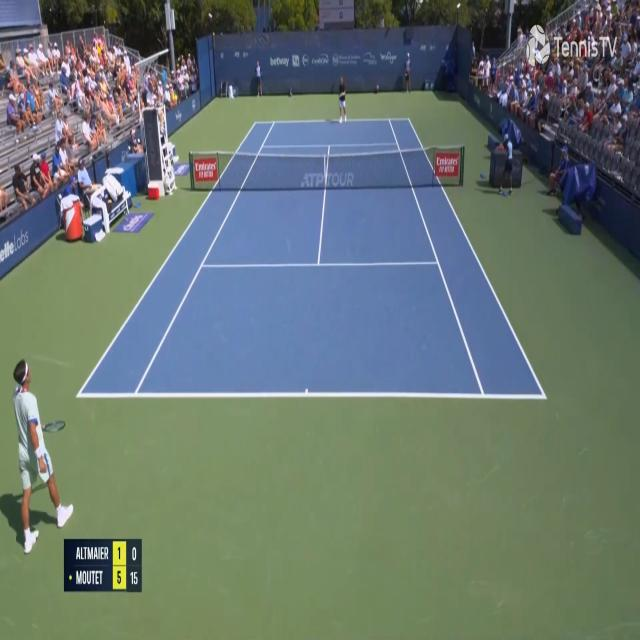tennis-player: (4, 351, 74, 559), (332, 74, 348, 124)
